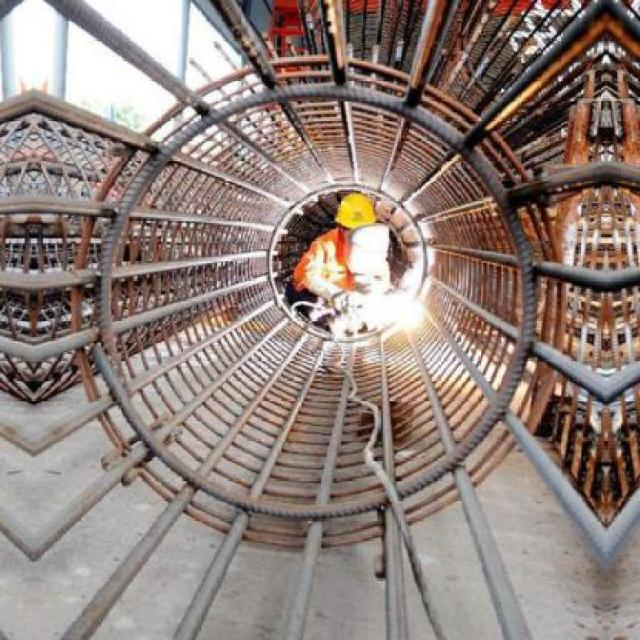helmet: (328, 192, 380, 242)
